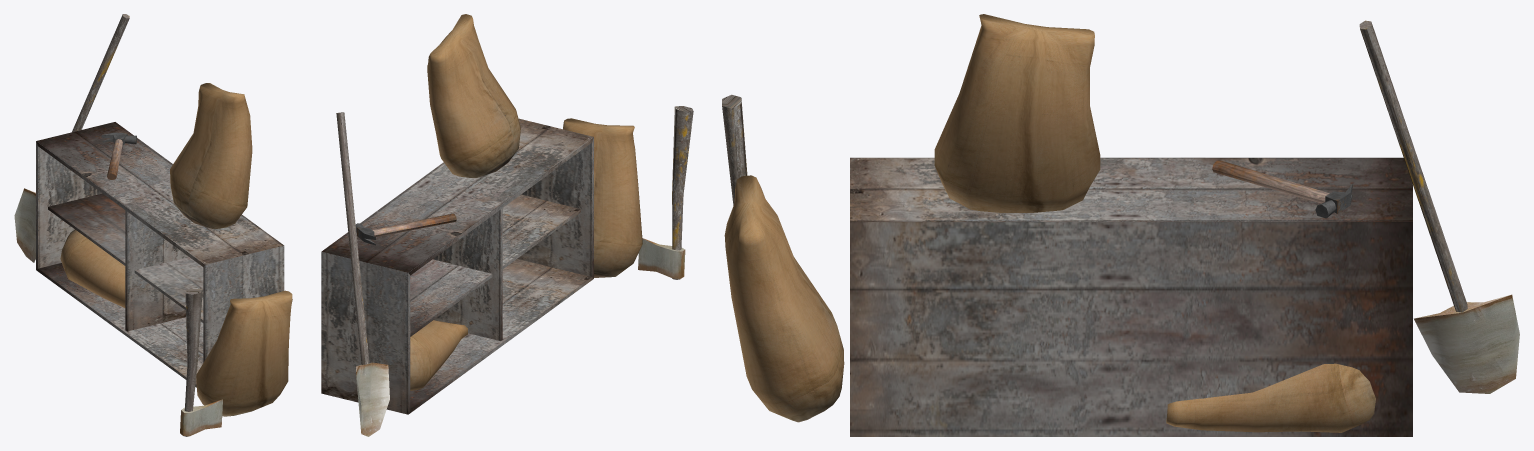
File: RepisaBodega.FBX
3 renders of one model, left to right at view 1: azimuth 30°, elevation 25°; view 2: azimuth 150°, elevation 25°; view 3: azimuth 270°, elevation 25°, orthographic. The views are drawn at different scales.
Parts seen in each view (by area): view 1: Box011, Saco01, Saco, Saco03, Hacha, Pala, martillo001; view 2: Box011, Saco01, Saco, Pala, Hacha, Saco03, martillo001; view 3: Box011, Saco01, Saco, Pala, Saco03, martillo001, Hacha.
Part boxes in pixels (box(x1,y1,x2,y2)): Box011: box(36, 122, 284, 387); Saco01: box(170, 83, 252, 228); Saco: box(196, 290, 292, 416); Saco03: box(60, 229, 125, 307); Hacha: box(180, 287, 222, 436); Pala: box(14, 14, 129, 262); martillo001: box(101, 132, 136, 179); Box011: box(321, 118, 593, 414); Saco01: box(427, 14, 520, 177); Saco: box(563, 118, 642, 277); Pala: box(336, 112, 389, 436); Hacha: box(638, 106, 693, 279); Saco03: box(410, 320, 468, 390); martillo001: box(355, 213, 456, 245); Box011: box(850, 157, 1412, 436); Saco01: box(934, 14, 1100, 212); Saco: box(724, 175, 844, 422); Pala: box(1359, 20, 1519, 393); Saco03: box(1166, 363, 1375, 432); martillo001: box(1212, 160, 1352, 218); Hacha: box(722, 94, 747, 205).
Bounding box in the file's own units: 29.47 × 50.5 × 83.7.
